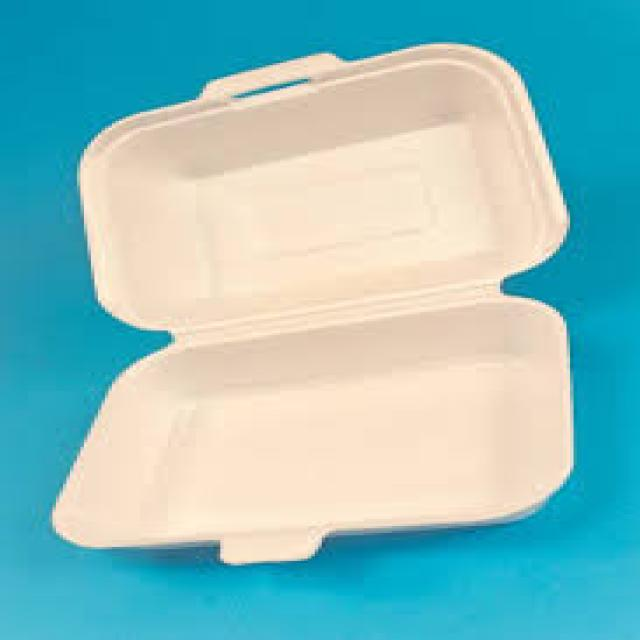styrofoam: (54, 45, 569, 563)
